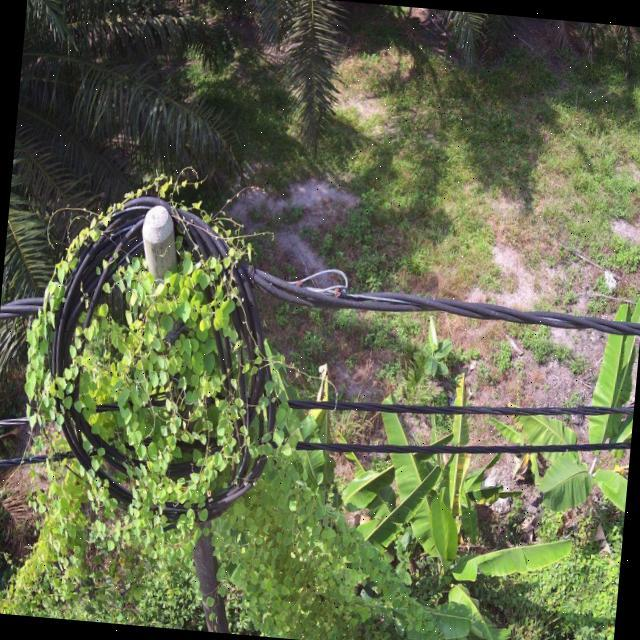critical vegetation: (0, 133, 478, 640)
